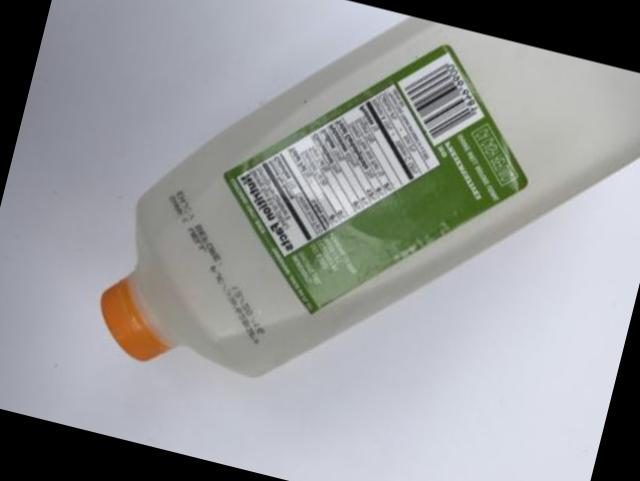plastic: (103, 15, 640, 373)
